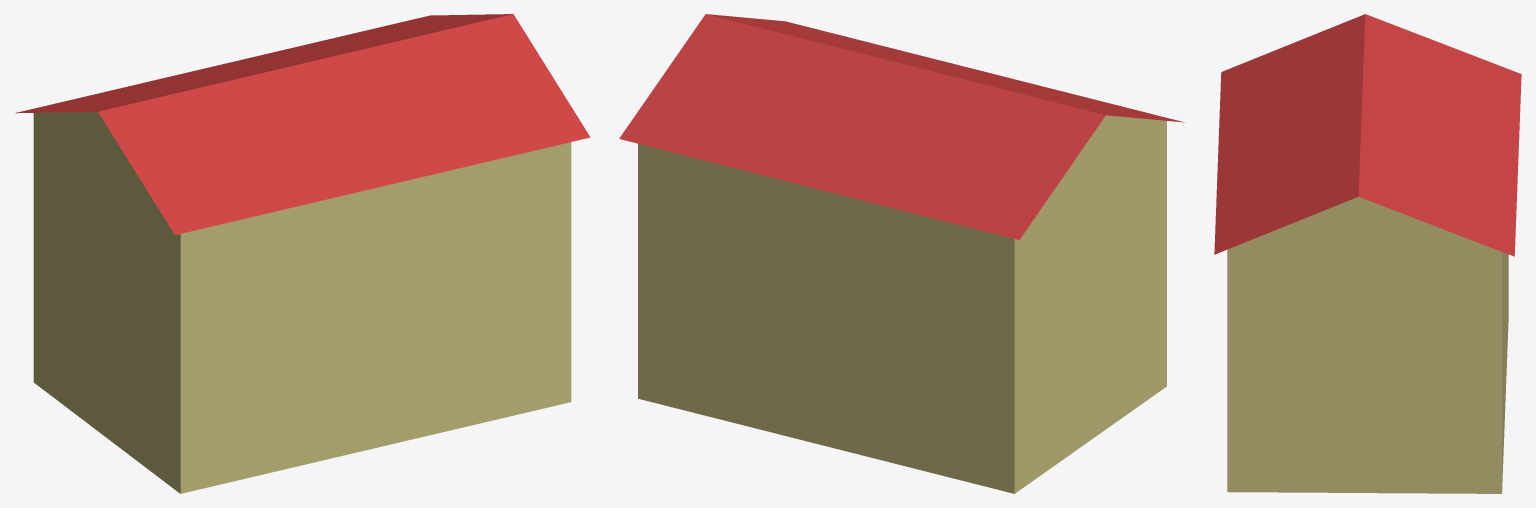
3 renders of one model, left to right at view 1: azimuth 30°, elevation 25°; view 2: azimuth 150°, elevation 25°; view 3: azimuth 270°, elevation 25°, orthographic. The views are drawn at different scales.
Size of the model in its own units: 8.47 by 5.95 by 6.45.
